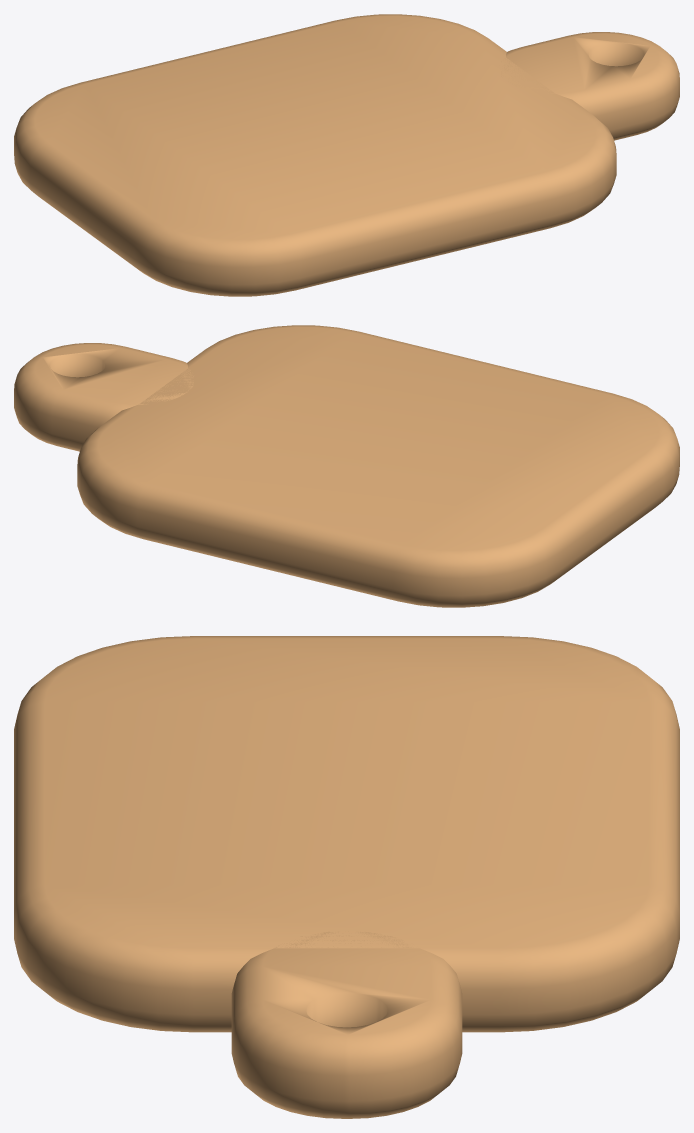
Rendered from board_a.glb.
3 views of the same model, one above another, from view 1: azimuth 30°, elevation 25°; view 2: azimuth 150°, elevation 25°; view 3: azimuth 270°, elevation 25° (orthographic). The views are drawn at different scales.
Parts seen in each view (by area): view 1: body; view 2: body; view 3: body.
Part boxes in pixels (bbox=[...]): body: bbox=[14, 14, 679, 296]; body: bbox=[14, 325, 679, 607]; body: bbox=[14, 636, 679, 1118].
Bounding box in the file's own units: 0.39 × 0.035 × 0.26.
